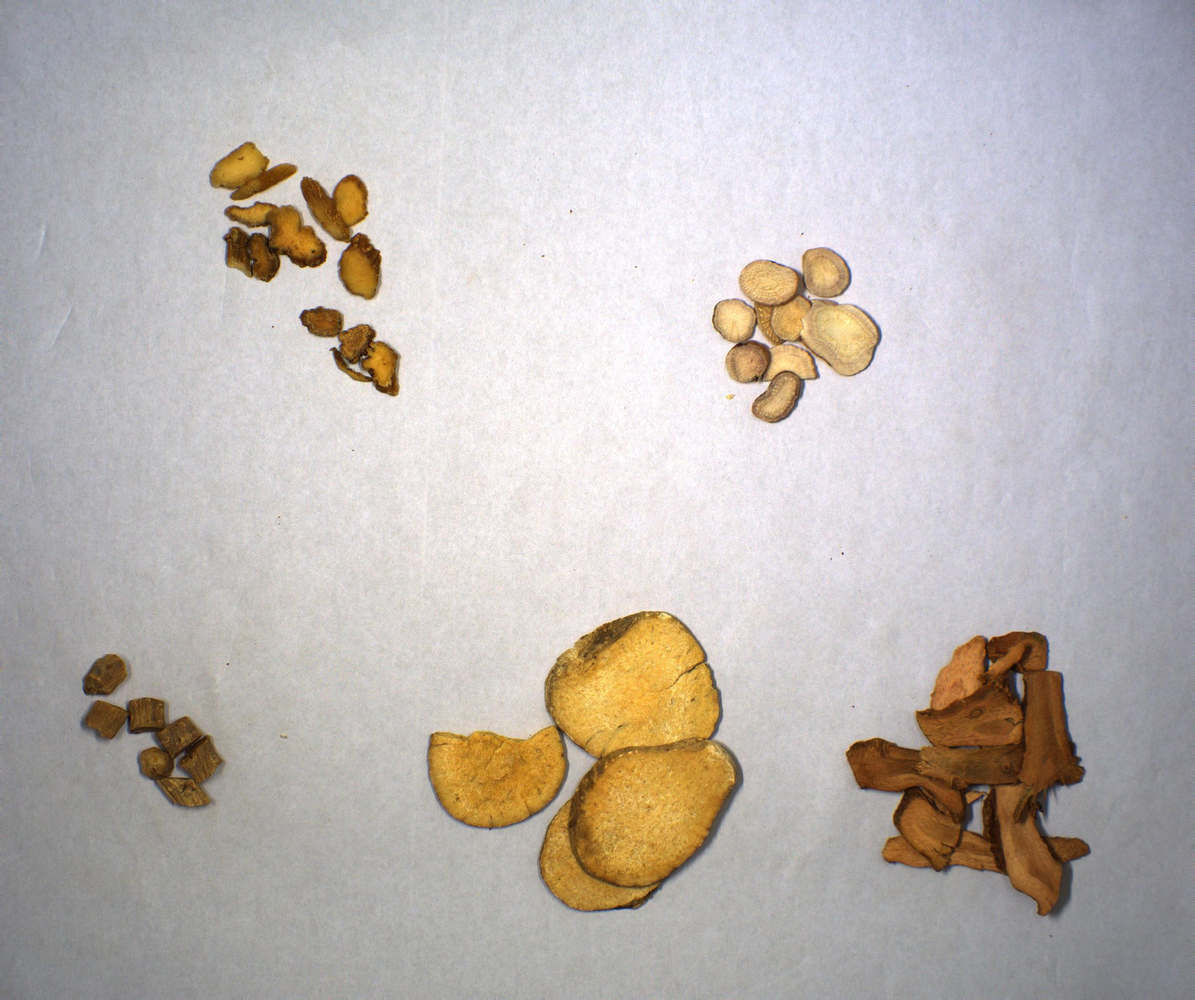baishao: (712, 246, 886, 425)
gaoliangjiang: (842, 630, 1091, 921)
niuxi: (82, 653, 227, 813)
yuzhu: (207, 142, 404, 397)
zexie: (429, 612, 744, 914)
